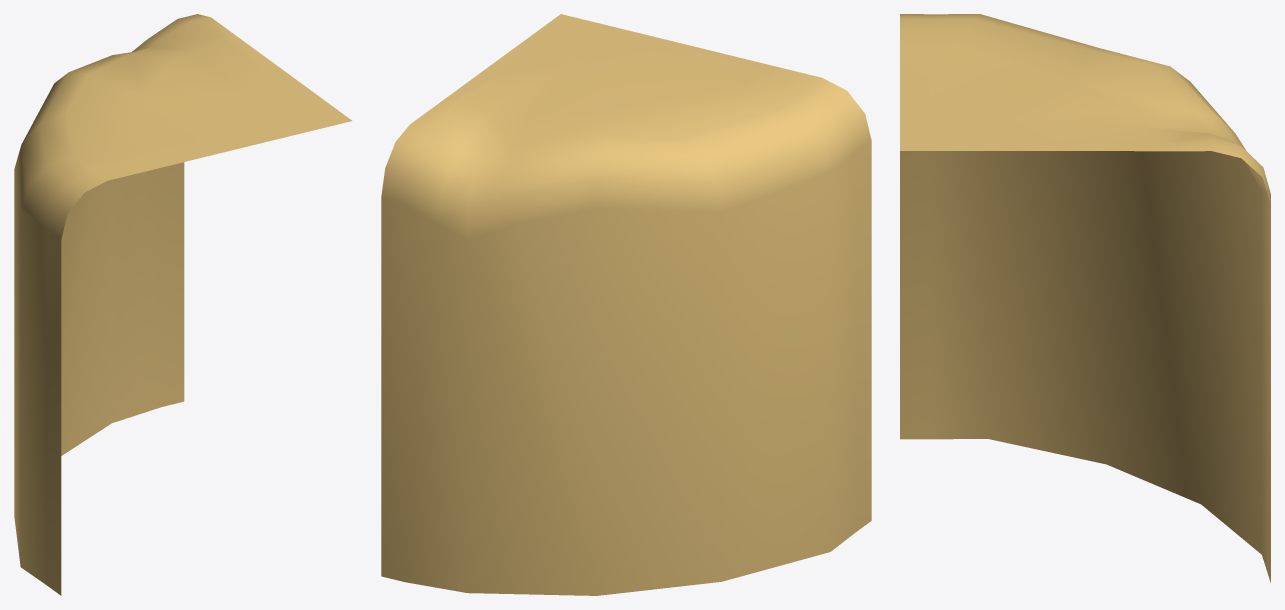
Rendered from SandBlock_Corner_Mesh.fbx.
3 renders of one model, left to right at view 1: azimuth 30°, elevation 25°; view 2: azimuth 150°, elevation 25°; view 3: azimuth 270°, elevation 25°, orthographic. The views are drawn at different scales.
Parts seen in each view (by area): view 1: SandBlock_Corner; view 2: SandBlock_Corner; view 3: SandBlock_Corner.
Boxes of the visible parts, bbox=[...] form: SandBlock_Corner: bbox=[14, 14, 352, 595]; SandBlock_Corner: bbox=[381, 14, 871, 595]; SandBlock_Corner: bbox=[900, 14, 1270, 582].
Bounding box in the file's own units: 130 × 130 × 174.
